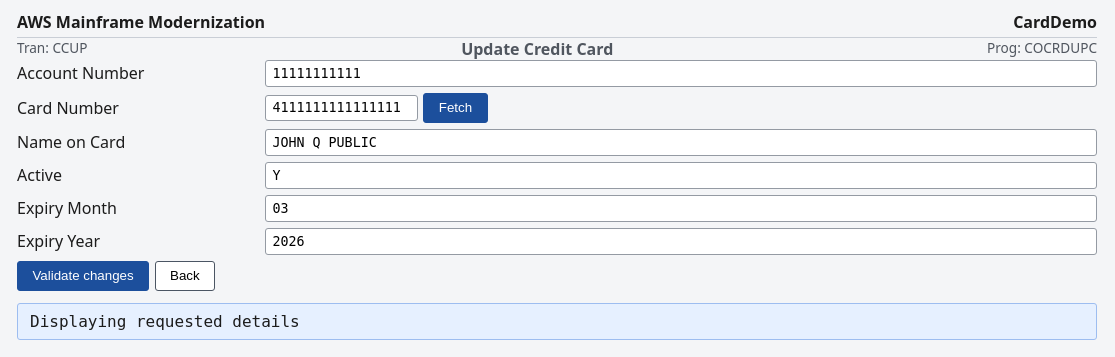
Test: Card update screen › asks for the save confirmation once the changes pass the edits
Replace the text in the field labelled "Name on Card" with "JANE Q PUBLIC" at (681, 142), box [265,129,1097,156]
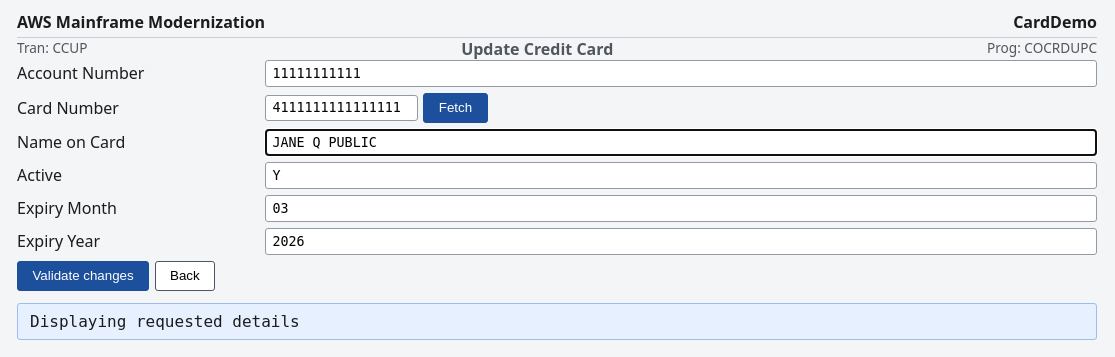
Click the button "Validate changes".
click(83, 276)  # box [17,261,149,291]
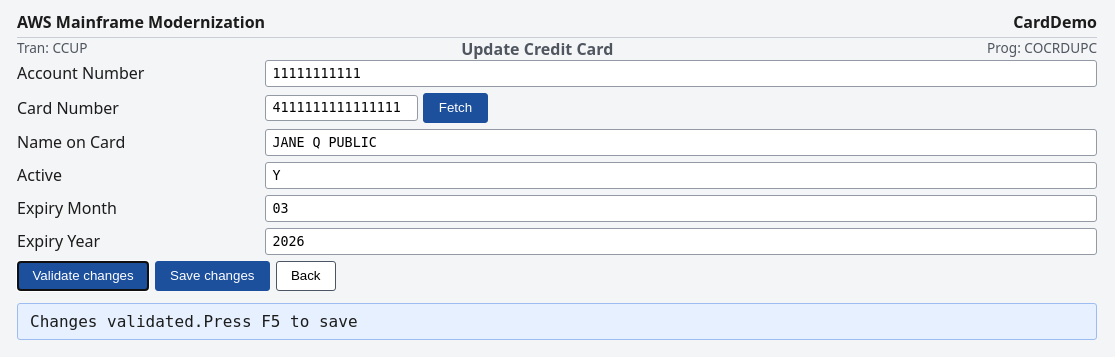
Result: the message reads "Changes validated.Press F5 to save" at [30,312,358,331]
Result: the button "Save changes" is shown at [155,261,270,291]
